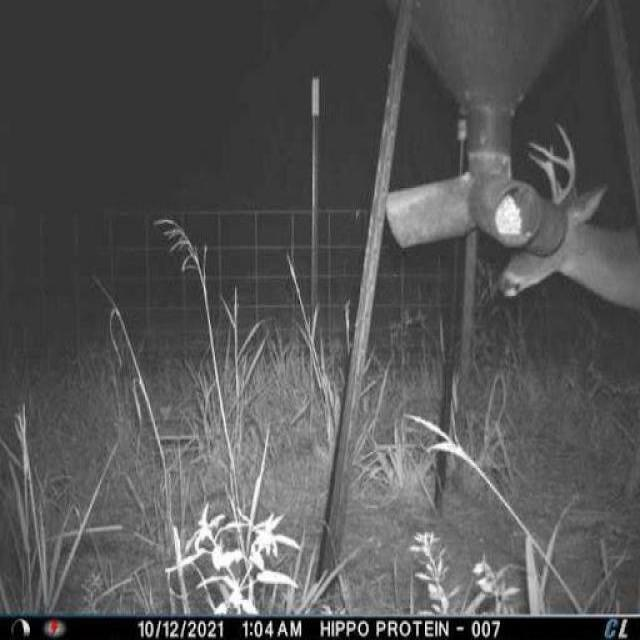deer: (490, 113, 640, 330)
